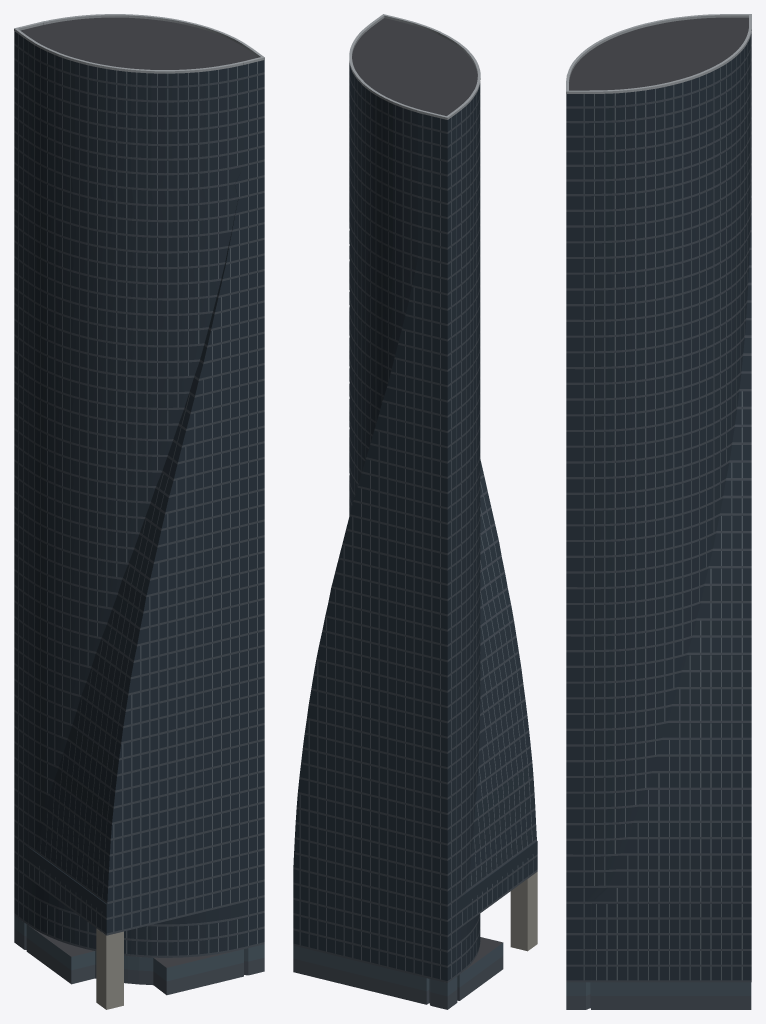
The picture shows the model from 3 angles, left to right: view 1: azimuth 30°, elevation 25°; view 2: azimuth 150°, elevation 25°; view 3: azimuth 270°, elevation 25°; orthographic projection. The views are drawn at different scales.
Parts seen in each view (by area): view 1: curtain_wall, mullions; view 2: curtain_wall, mullions; view 3: curtain_wall, mullions.
Boxes of the visible parts, left/top/right/bottom form: curtain_wall: left=14, top=17, right=264, bottom=1009; mullions: left=14, top=14, right=264, bottom=955; curtain_wall: left=293, top=18, right=537, bottom=1009; mullions: left=299, top=14, right=533, bottom=979; curtain_wall: left=566, top=17, right=751, bottom=1009; mullions: left=566, top=14, right=751, bottom=980.
Size of the model in its own units: 42.4 by 234 by 42.86.
